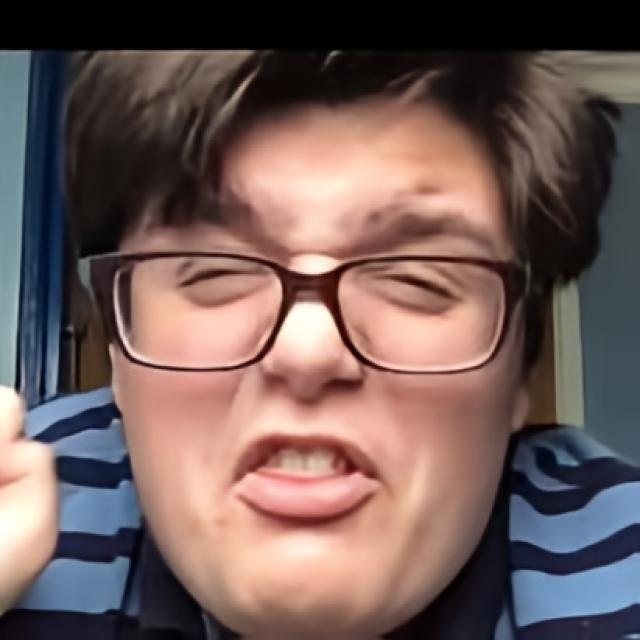disgust: (110, 78, 520, 640)
